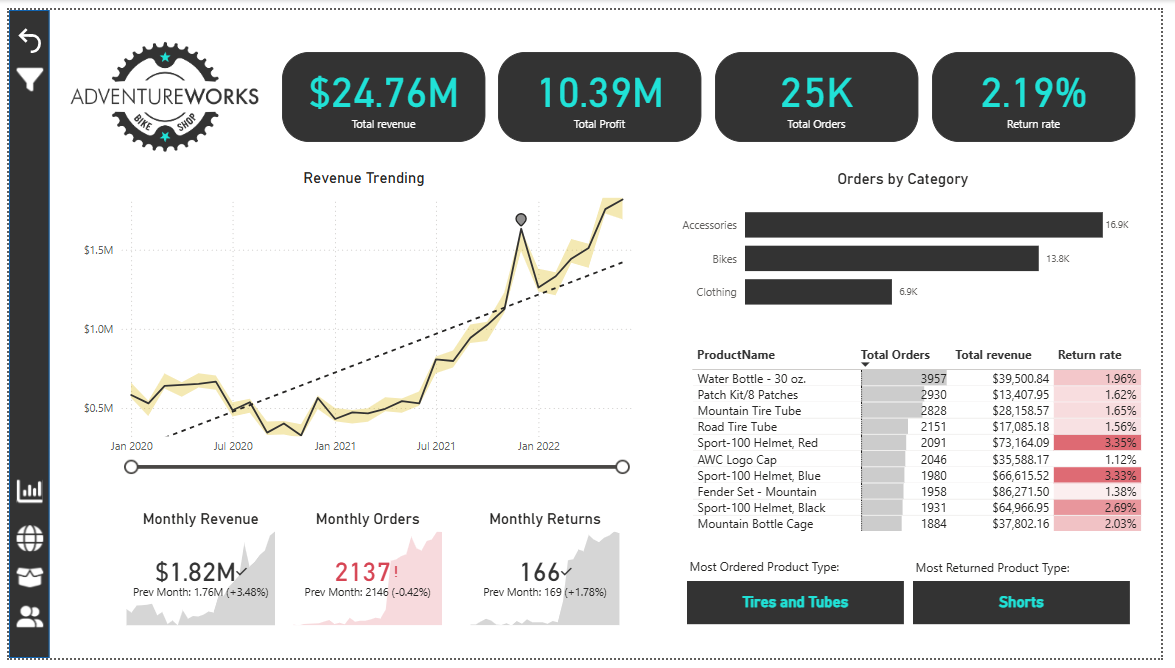

The page's visual inventory and layout, read from the dashboard file:
{"tool":"powerbi","page":{"name":"Exec Deshboard","canvas":[1280,720],"ordinal":0},"visuals":[{"type":"shape","box":[0,0,45,720],"z":0,"group":"g1"},{"type":"image","box":[45,26,256,141],"z":0},{"type":"actionButton","box":[4,10.7,37.6,50.1],"z":1000,"group":"g1"},{"type":"card","fields":{"Values":["Table.revenue"]},"box":[303,47,225.6,100],"z":1000},{"type":"card","fields":{"Values":["Table.Total Profit"]},"box":[543.7,46.7,225.6,100],"z":2000},{"type":"actionButton","box":[4,54.6,37.6,50.1],"z":2000,"group":"g1"},{"type":"card","fields":{"Values":["Table.Total Orders"]},"box":[784.3,46.7,225.6,100],"z":3000},{"type":"actionButton","box":[4.4,511.8,37.1,50.6],"z":3000,"group":"g1"},{"type":"card","fields":{"Values":["Table.Return rate"]},"box":[1025,47,225.6,100],"z":4000},{"type":"actionButton","box":[4,564.2,37.6,50.1],"z":4000,"group":"g1"},{"type":"lineChart","title":"Revenue Trending","fields":{"Category":["AdventureWorks Calendar Lookup.Start of Month.Variation.Date Hierarchy.Year"],"Y":["Table.Total revenue"]},"box":[78,177,633,342],"z":5000},{"type":"actionButton","box":[4,608.1,37.6,50.1],"z":5000,"group":"g1"},{"type":"clusteredBarChart","title":"Orders by Category","fields":{"Category":["Product Categori.CategoryName"],"Y":["Table.Total Orders"]},"box":[738,178,511,171],"z":6000},{"type":"actionButton","box":[4,651,37.6,50.1],"z":6000,"group":"g1"},{"type":"kpi","title":"Monthly Revenue","fields":{"Goal":["Table.Previous Month Revenue"],"Indicator":["Table.Total revenue"],"TrendLine":["AdventureWorks Calendar Lookup.Start of Month"]},"box":[126,555,175,133],"z":7000},{"type":"kpi","title":"Monthly Orders","fields":{"Goal":["Table.Previous Month Orders"],"Indicator":["Table.Total Orders"],"TrendLine":["AdventureWorks Calendar Lookup.Start of Month"]},"box":[311.1,555.6,175,133.3],"z":8000},{"type":"kpi","title":"Monthly Returns","fields":{"Goal":["Table.Previous Month Returns"],"Indicator":["Table.Total returns"],"TrendLine":["AdventureWorks Calendar Lookup.Start of Month"]},"box":[507.8,555.6,175.6,133.3],"z":9000},{"type":"tableEx","fields":{"Values":["Product Lookup c.ProductName","Table.Total Orders","Table.Total revenue","Table.Return rate"]},"box":[753,369,511,228],"z":10000},{"type":"textbox","box":[751.3,604.6,198.8,35.5],"z":11000},{"type":"textbox","box":[1002.2,605.2,198.8,35.5],"z":12000},{"type":"card","fields":{"Values":["Min(Product Subcateg.SubcategoryName)"]},"box":[753,634,241,48],"z":13000},{"type":"card","fields":{"Values":["Min(Product Subcateg.SubcategoryName)"]},"box":[1004,634,241,48],"z":14000},{"type":"group","id":"g1","title":"Group 1","box":[0,0,45,720],"z":15000}]}

Visuals, with their boxes on the page's 1280x720 design canvas (x1, y1, x2, y2). These are canvas units, not pixel positions in the 1175x668 screenshot, which may show the page scaled, cropped or inside an application window:
shape: 0, 0, 45, 720
image: 45, 26, 301, 167
actionButton: 4, 11, 42, 61
card - Table.revenue: 303, 47, 529, 147
card - Table.Total Profit: 544, 47, 769, 147
actionButton: 4, 55, 42, 105
card - Table.Total Orders: 784, 47, 1010, 147
actionButton: 4, 512, 42, 562
card - Table.Return rate: 1025, 47, 1251, 147
actionButton: 4, 564, 42, 614
"Revenue Trending" lineChart: 78, 177, 711, 519
actionButton: 4, 608, 42, 658
"Orders by Category" clusteredBarChart: 738, 178, 1249, 349
actionButton: 4, 651, 42, 701
"Monthly Revenue" kpi: 126, 555, 301, 688
"Monthly Orders" kpi: 311, 556, 486, 689
"Monthly Returns" kpi: 508, 556, 683, 689
tableEx - Product Lookup c.ProductName x Table.Total Orders: 753, 369, 1264, 597
textbox: 751, 605, 950, 640
textbox: 1002, 605, 1201, 641
card - Min(Product Subcateg.SubcategoryName): 753, 634, 994, 682
card - Min(Product Subcateg.SubcategoryName): 1004, 634, 1245, 682
"Group 1" group: 0, 0, 45, 720
